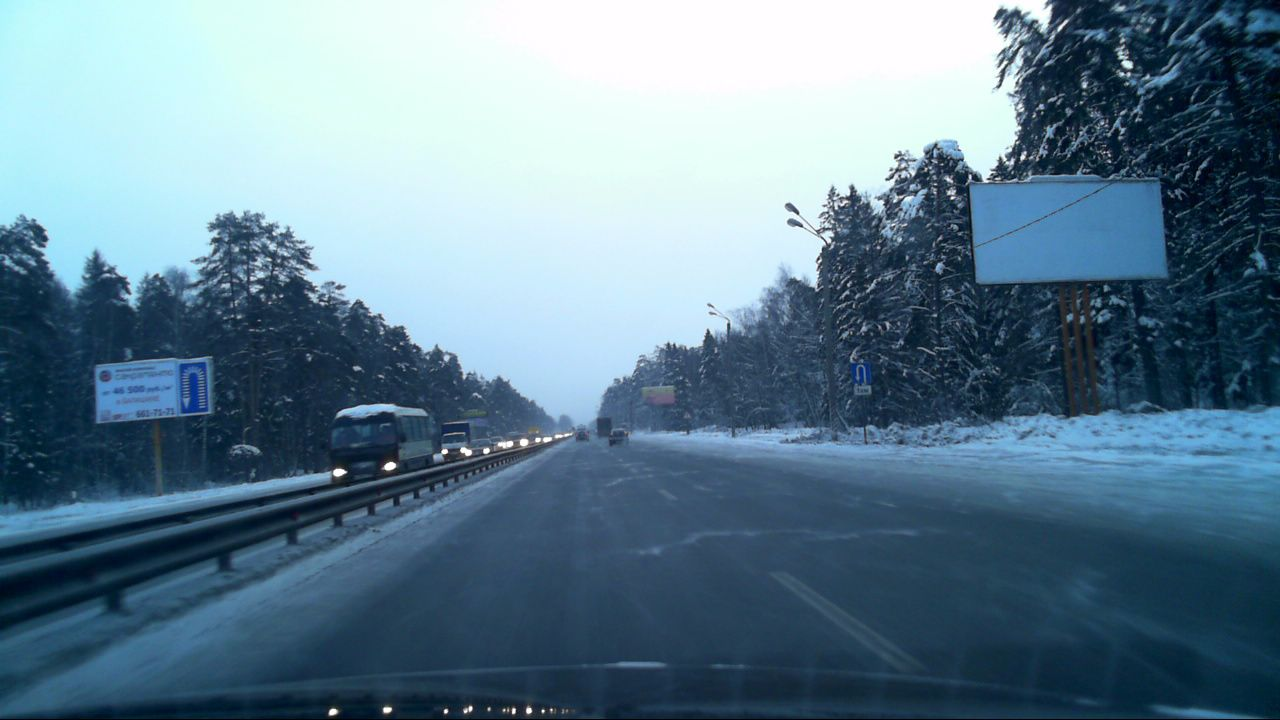U-turn: (851, 363, 872, 385)
